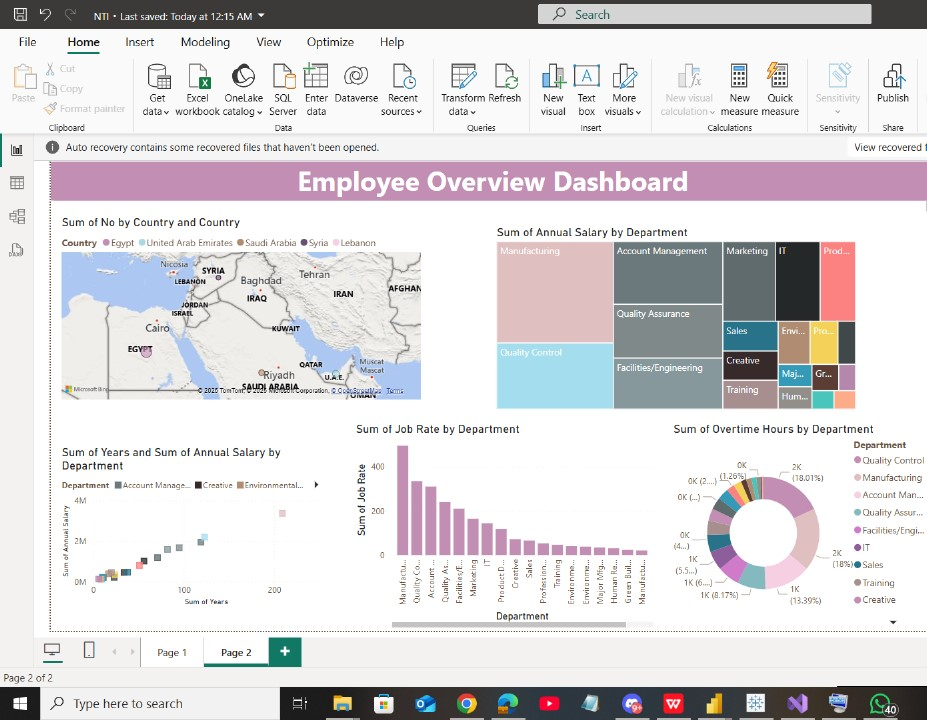

This screenshot's page, from the dashboard's own definition file:
{"tool":"powerbi","page":{"name":"Page 2","canvas":[1280,720],"ordinal":1},"visuals":[{"type":"map","fields":{"Category":["Employees.Country"],"Series":["Employees.Country"],"Size":["Sum(Employees.No)"]},"box":[10.9,118.2,529.6,271.4],"z":0},{"type":"scatterChart","fields":{"X":["Sum(Employees.Years)"],"Y":["Sum(Employees.Annual Salary)"],"Series":["Employees.Department"]},"box":[10.9,451.2,393.3,237.7],"z":1},{"type":"treemap","fields":{"Group":["Employees.Department"],"Values":["Sum(Employees.Annual Salary)"]},"box":[640.6,132.7,529.6,271.4],"z":2},{"type":"lineStackedColumnComboChart","fields":{"Y":["Sum(Employees.Job Rate)"],"Category":["Employees.Department"]},"box":[436.7,417.4,440.4,302.8],"z":3},{"type":"donutChart","fields":{"Category":["Employees.Department"],"Y":["Sum(Employees.Overtime Hours)"]},"box":[896.4,417.4,383.6,302.8],"z":4},{"type":"textbox","title":"Employee Overview Dashboard","box":[0,41,1280,77.2],"z":5}]}

Visuals, with their boxes on the page's 1280x720 design canvas (x1, y1, x2, y2). These are canvas units, not pixel positions in the 927x720 screenshot, which may show the page scaled, cropped or inside an application window:
map - Employees.Country x Employees.Country: box=[11, 118, 540, 390]
scatterChart - Sum(Employees.Years) x Sum(Employees.Annual Salary): box=[11, 451, 404, 689]
treemap - Employees.Department x Sum(Employees.Annual Salary): box=[641, 133, 1170, 404]
lineStackedColumnComboChart - Sum(Employees.Job Rate) x Employees.Department: box=[437, 417, 877, 720]
donutChart - Employees.Department x Sum(Employees.Overtime Hours): box=[896, 417, 1280, 720]
"Employee Overview Dashboard" textbox: box=[0, 41, 1280, 118]
